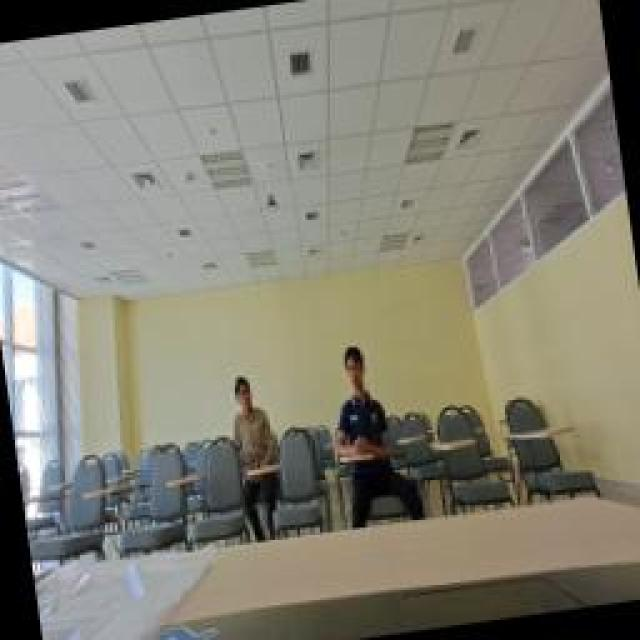study: (217, 365, 285, 543)
